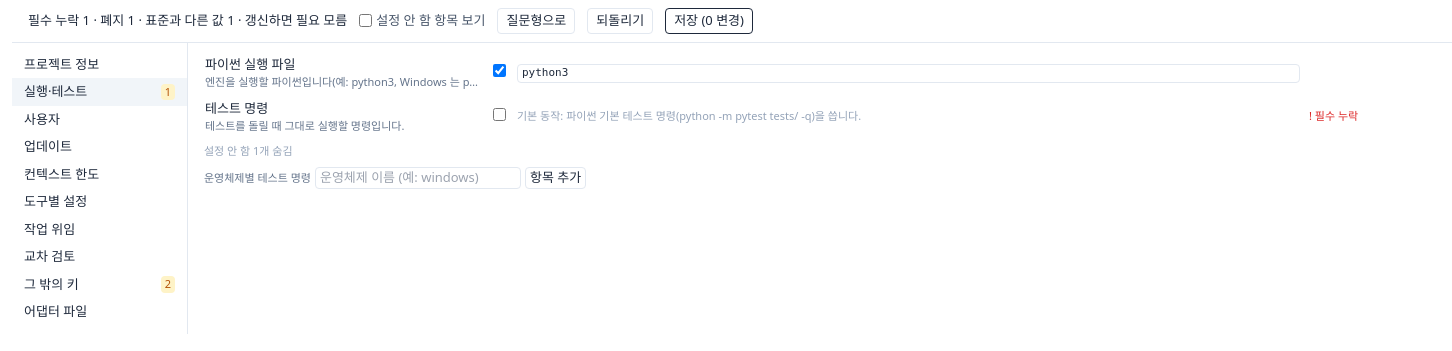
Test: 항목 목록 구성 › upstream.path 는 표에도 질문형에도 행이 없다 — 그 자리는 원본 위치 절 하나다
What coordinates should you click on to do the following:
click the button "업데이트"
I would click on:
 (100, 147)
Its box is [12,133,187,160].
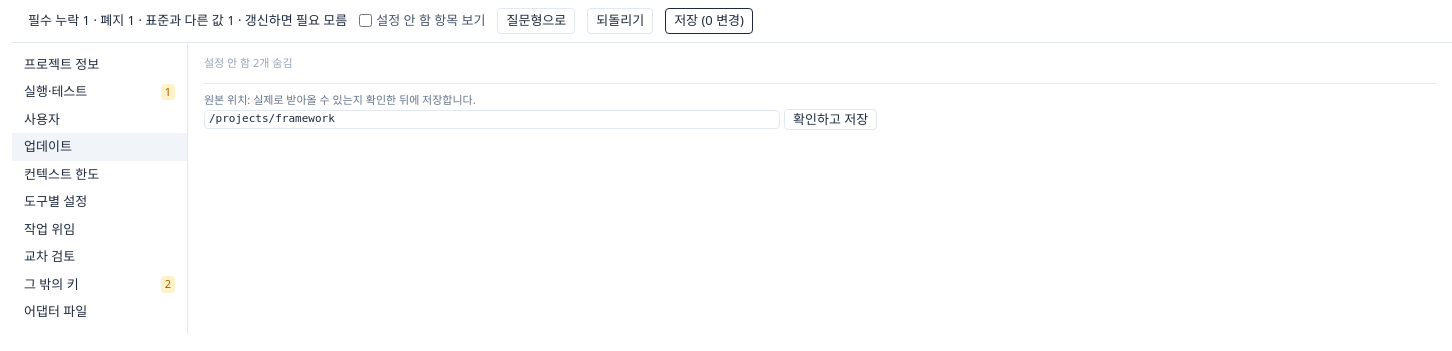
Result: the field named "원본 위치" holds "/projects/framework" at [204,110,780,128]
